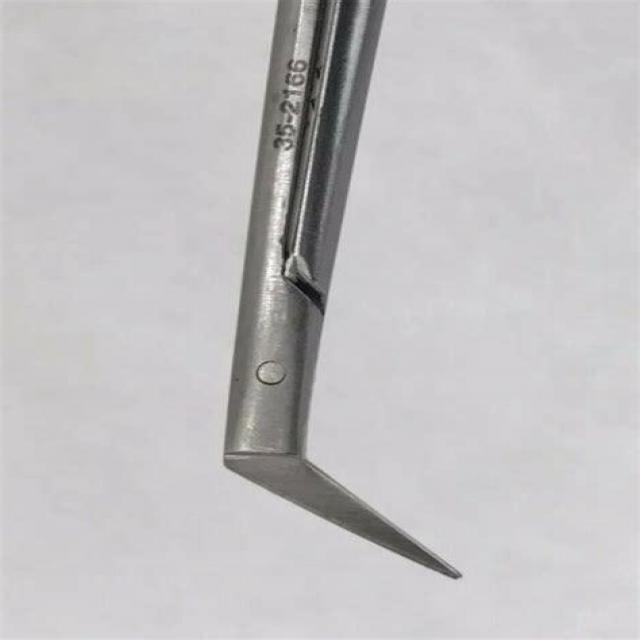Potts: (218, 0, 468, 586)
